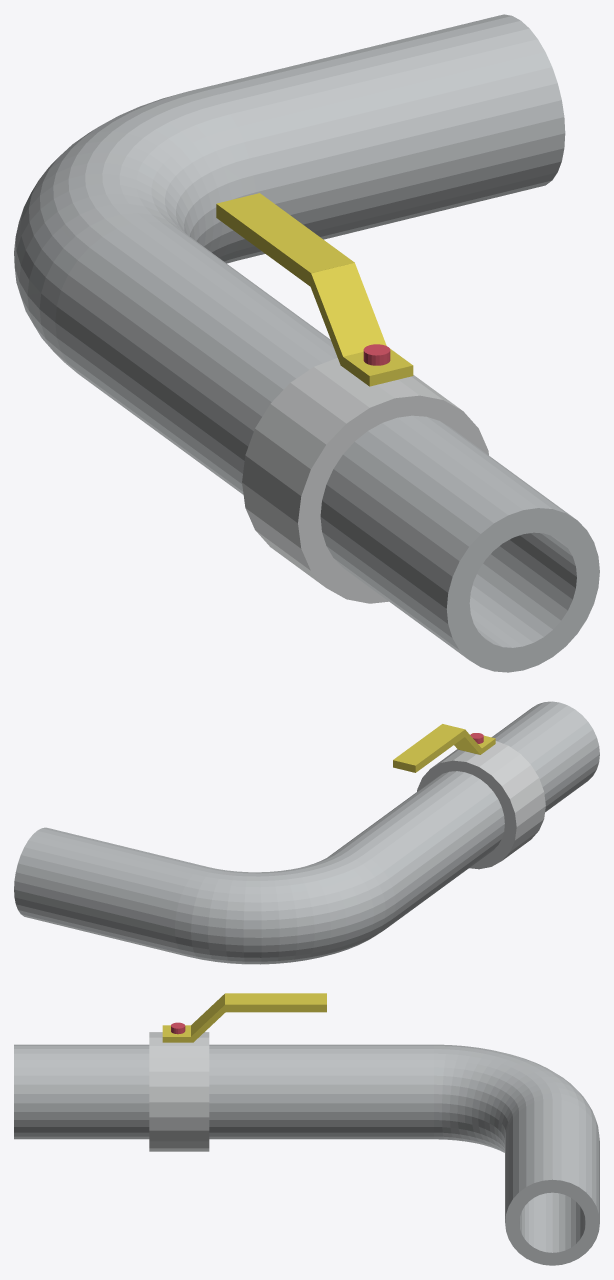
The model's file is Water shutoff valve.glb.
3 renders of one model, top to bottom at view 1: azimuth 30°, elevation 25°; view 2: azimuth 150°, elevation 25°; view 3: azimuth 270°, elevation 25°, orthographic. The views are drawn at different scales.
Visible parts, largest first — view 1: Mesh_Mesh_head_geo.001_lambert2SG.001; view 2: Mesh_Mesh_head_geo.001_lambert2SG.001; view 3: Mesh_Mesh_head_geo.001_lambert2SG.001.
Part boxes in pixels (bbox=[...]): Mesh_Mesh_head_geo.001_lambert2SG.001: bbox=[14, 14, 599, 672]; Mesh_Mesh_head_geo.001_lambert2SG.001: bbox=[14, 701, 599, 964]; Mesh_Mesh_head_geo.001_lambert2SG.001: bbox=[14, 993, 599, 1265].
Bounding box in the file's own units: 78.18 × 34.84 × 124.
